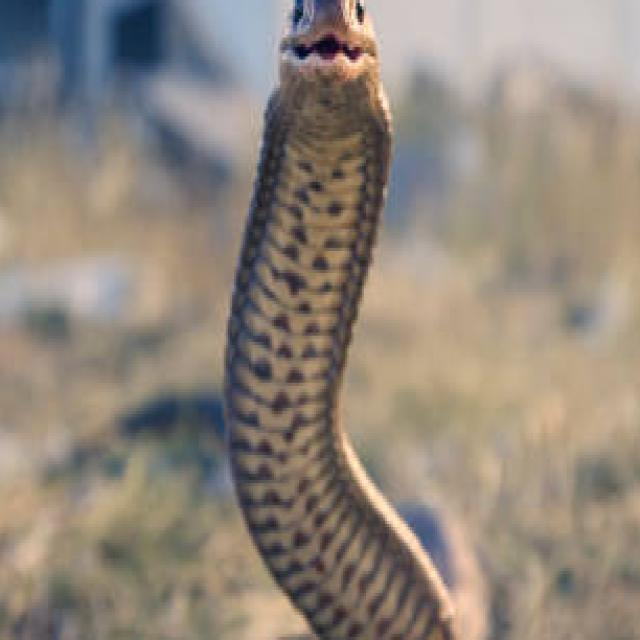Snake: (176, 0, 489, 640)
